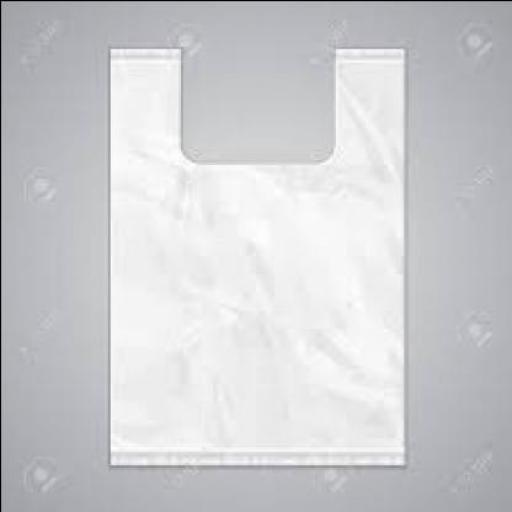plastic: (104, 43, 402, 462)
